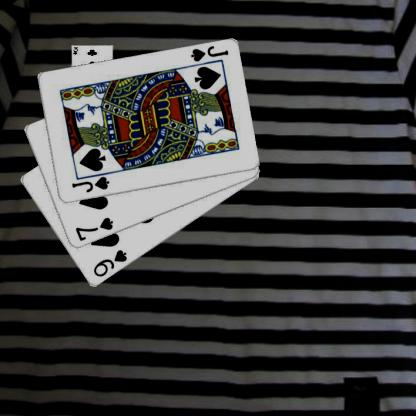7S: (73, 215, 114, 243)
9S: (91, 247, 128, 278)
JS: (188, 43, 229, 63), (70, 174, 110, 194)
